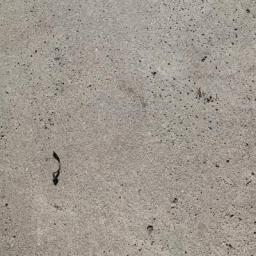FOD: (49, 149, 66, 188)
